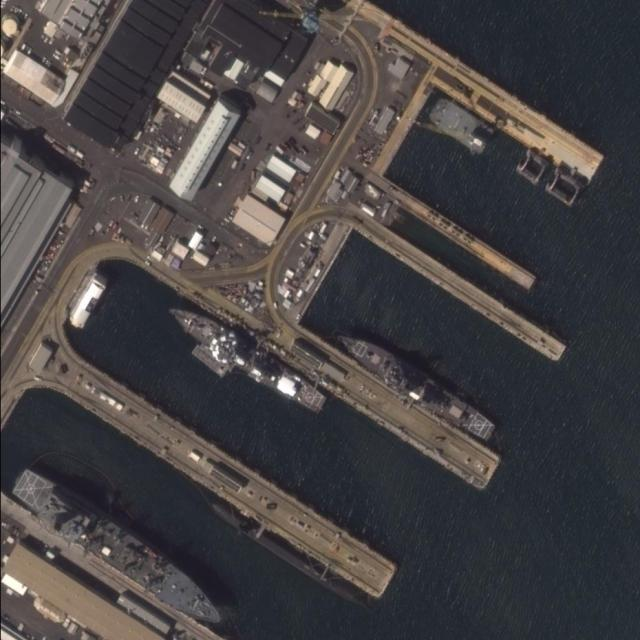Commander: (1, 462, 235, 636)
Destroyer: (162, 301, 329, 416), (334, 326, 495, 444)
Dock: (50, 354, 401, 598), (285, 326, 501, 495), (361, 213, 566, 363), (429, 49, 606, 184), (378, 173, 535, 292)
Submarine: (208, 500, 365, 610)
